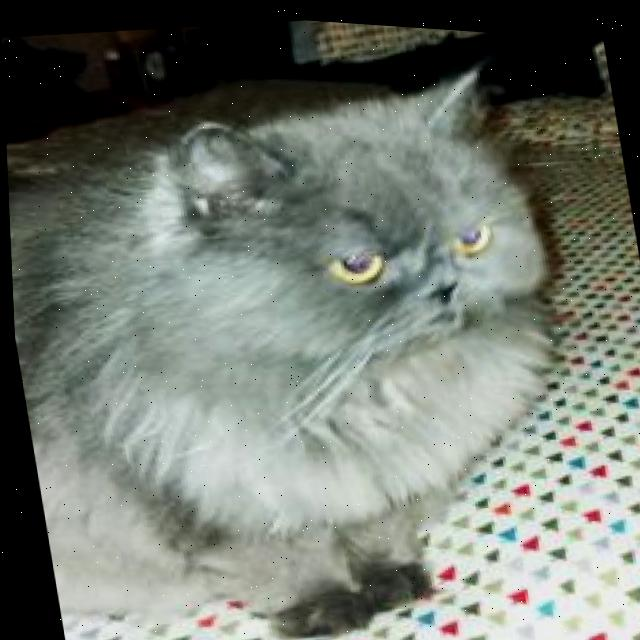Persian: (1, 22, 613, 640)
